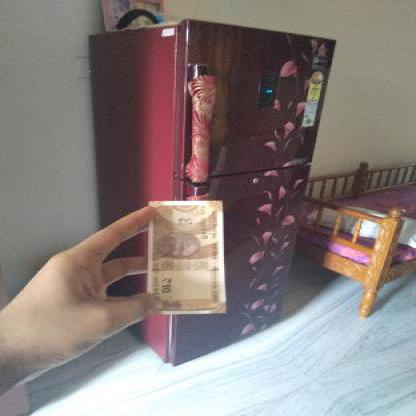New10Front: (148, 200, 228, 313)
